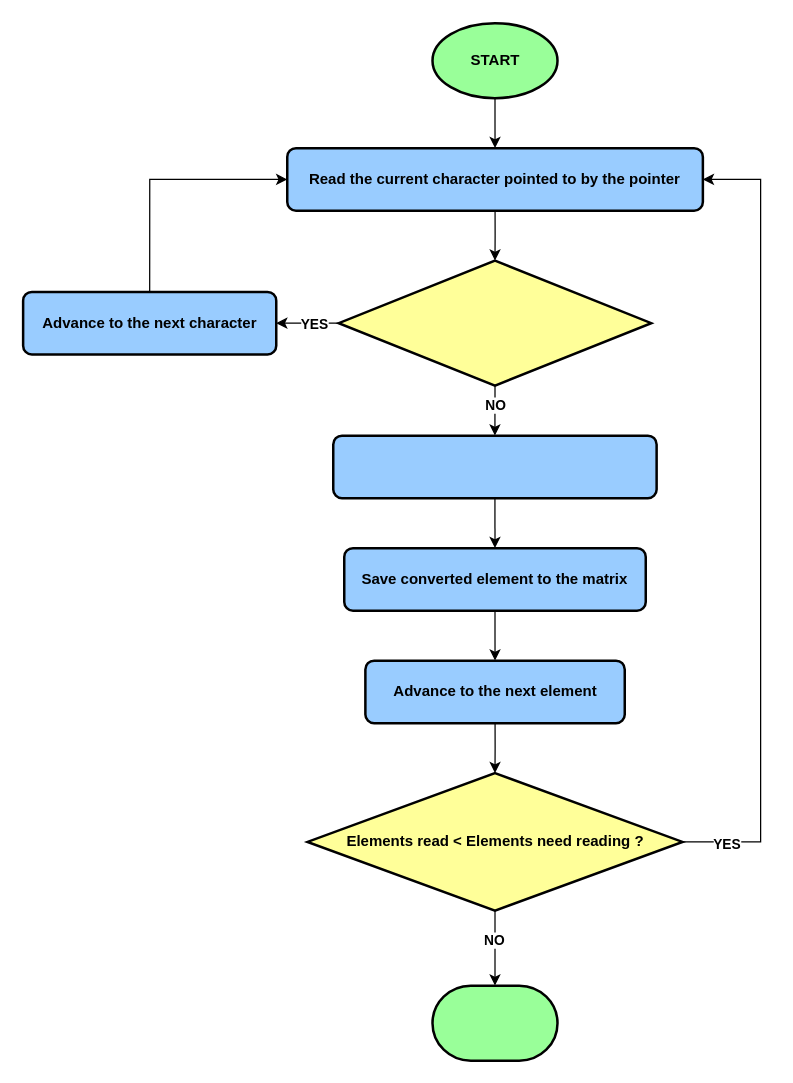
This 793x1083 diagram has some shape labels left out. The shapes that lost their labels are listed below. From the top down, each one's centre as x and y in pixels, then its label:
At [494,322]: "Current character == '\0' || '\n' || '\r' ?".
At [494,466]: "Perform procedure string_to_float".
At [494,1022]: "END".
